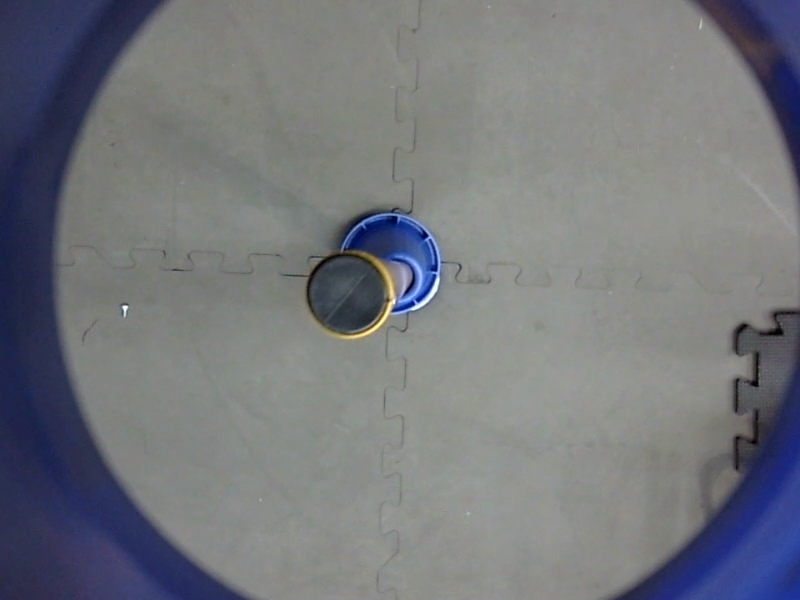tip: (299, 243, 400, 346)
